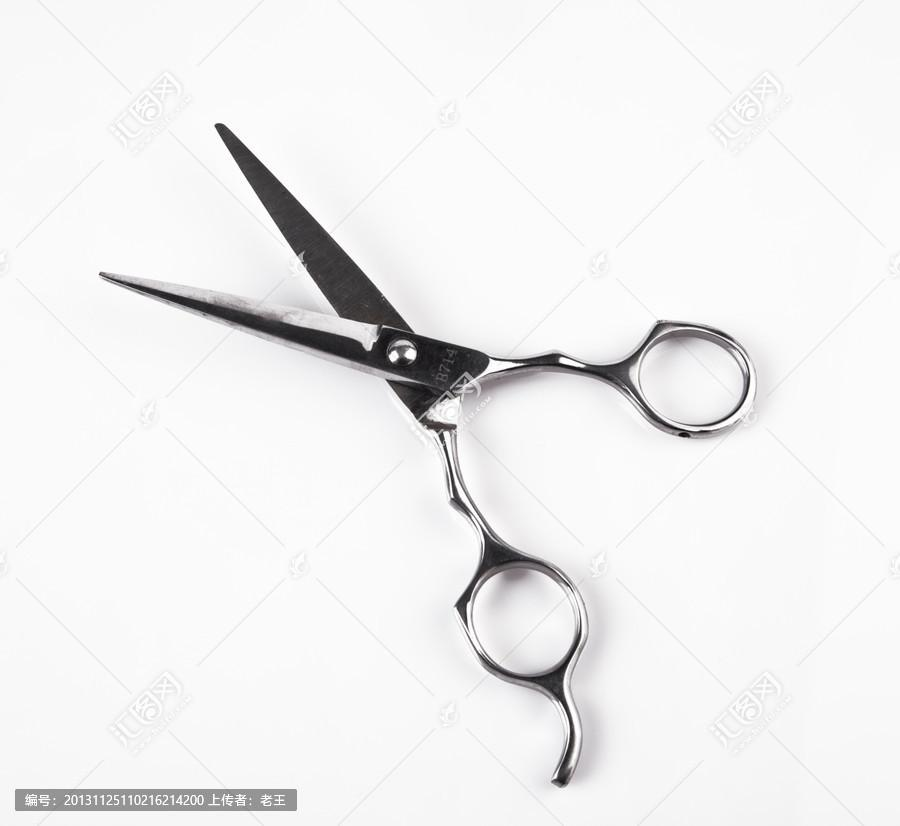scissor: (95, 83, 807, 792)
